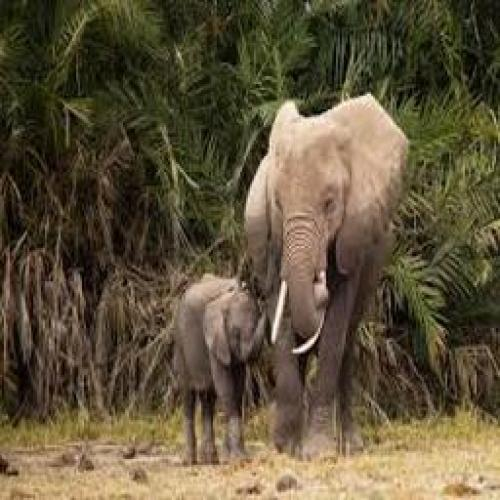african_elephant-endangered: (242, 92, 413, 464), (172, 273, 273, 469)
